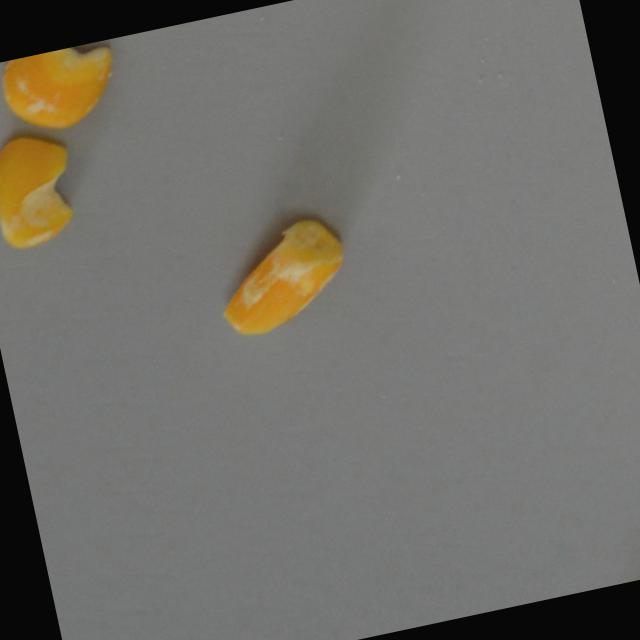pelicula: (206, 212, 355, 340), (0, 38, 126, 141), (0, 128, 88, 253)
